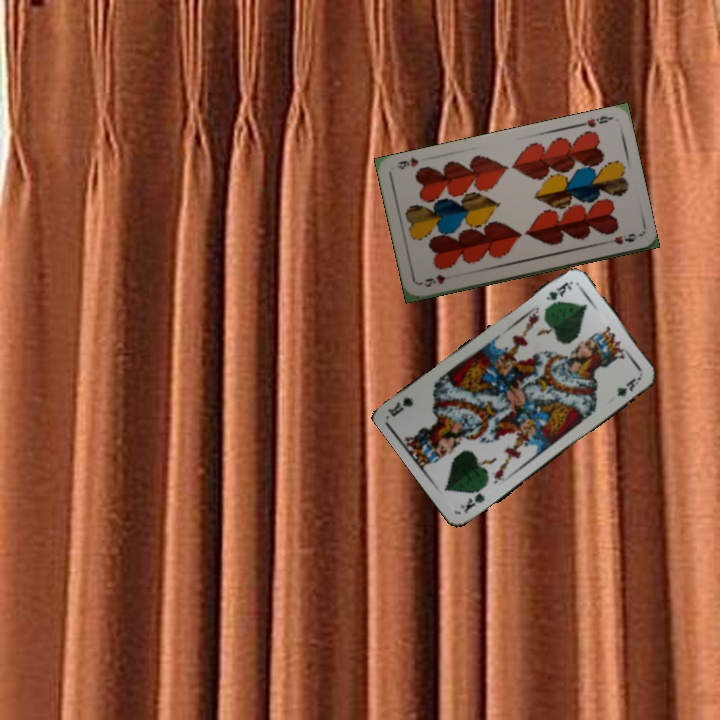GK: (456, 482, 489, 516), (542, 278, 574, 310)
H9: (574, 111, 615, 130), (416, 271, 448, 290)
